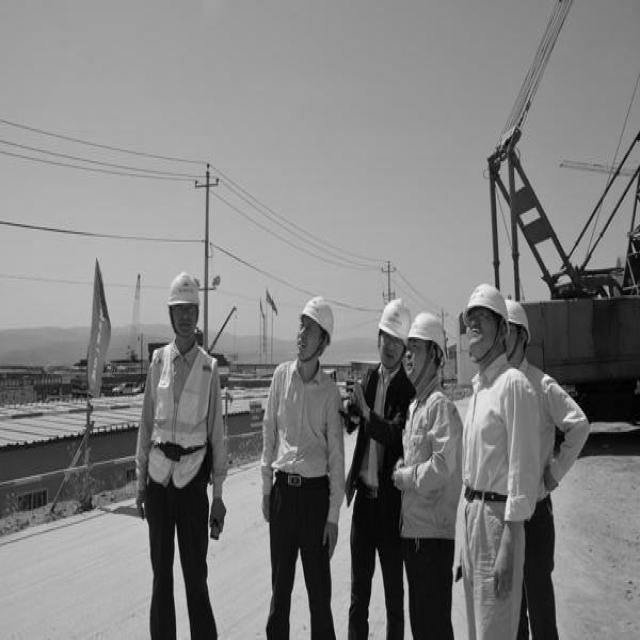face_nomask: (465, 306, 501, 363), (287, 314, 327, 360), (404, 337, 435, 388), (168, 303, 198, 340), (378, 330, 404, 368)
hand_noglove: (488, 542, 518, 603), (345, 384, 372, 428), (205, 496, 228, 534), (321, 521, 342, 559), (392, 460, 406, 498), (260, 493, 274, 527), (136, 490, 150, 518)
head_helmet: (378, 294, 412, 338), (300, 295, 338, 332), (166, 269, 200, 303), (411, 311, 448, 342), (468, 280, 506, 306), (506, 300, 528, 324)
person: (142, 270, 223, 638), (258, 298, 339, 635), (340, 301, 410, 640), (461, 282, 516, 640), (462, 285, 512, 640), (406, 311, 456, 640), (522, 288, 561, 608)
vest: (148, 349, 211, 484)
